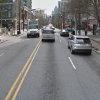Car: (63, 28, 94, 67)
